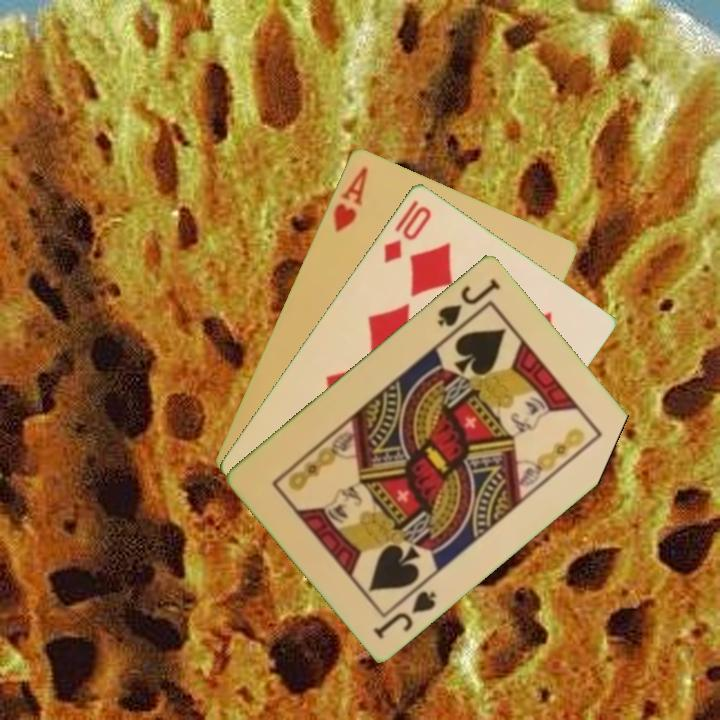10d: (379, 201, 435, 266)
Ah: (329, 162, 371, 235)
Js: (433, 274, 504, 329), (369, 586, 440, 641)
